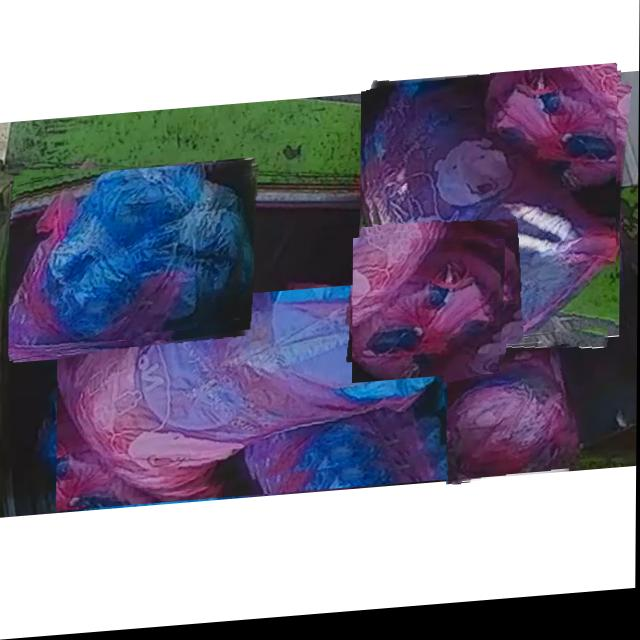other_trashbag: (58, 286, 450, 499), (370, 87, 615, 351), (10, 167, 247, 347), (353, 246, 505, 386), (448, 359, 574, 492)
